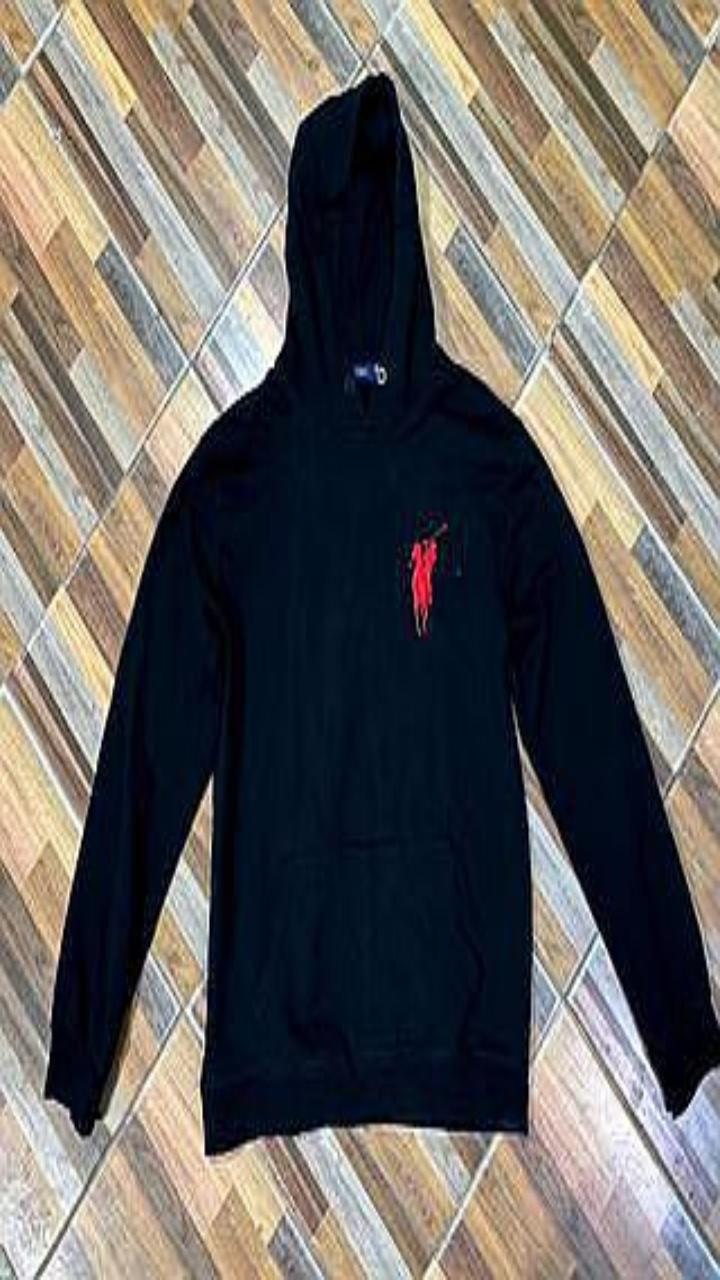Hoodie: (44, 72, 719, 1153)
